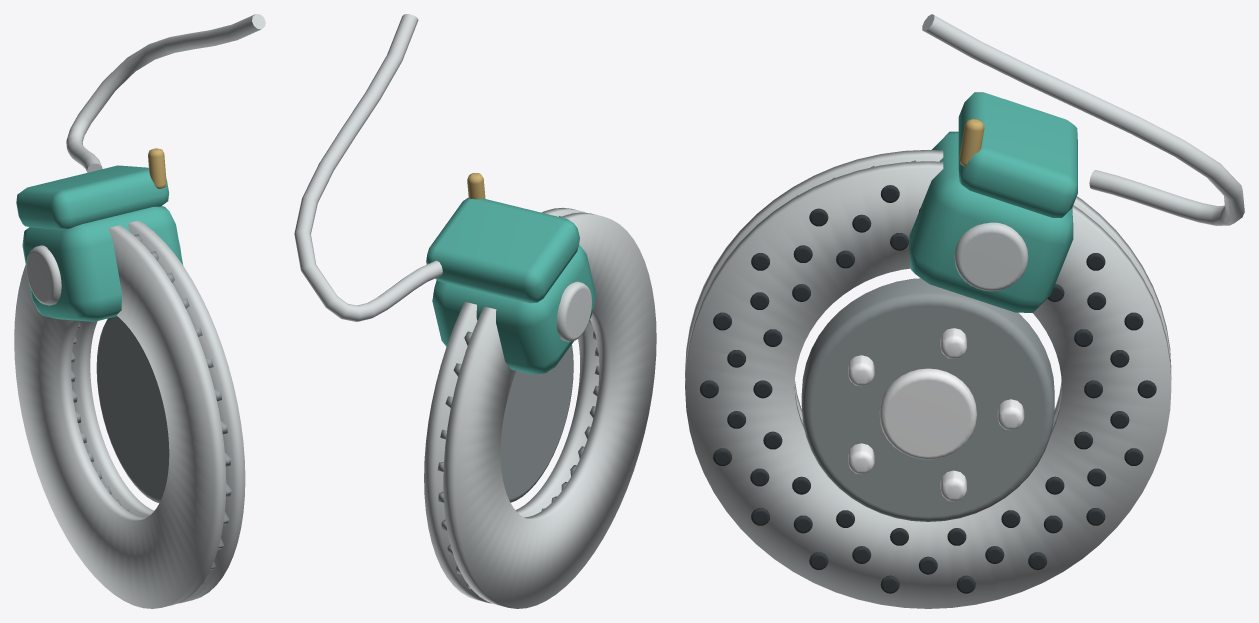
The model's file is brakes_sport.fbx.
3 renders of one model, left to right at view 1: azimuth 30°, elevation 25°; view 2: azimuth 150°, elevation 25°; view 3: azimuth 270°, elevation 25°, orthographic. The views are drawn at different scales.
Visible parts, largest first — view 1: brakes_sport; view 2: brakes_sport; view 3: brakes_sport.
Boxes of the visible parts, x1,y1,x2,y2 form: brakes_sport: (14,14,265,608); brakes_sport: (294,14,656,608); brakes_sport: (685,14,1244,608).
Bounding box in the file's own units: 16.78 × 43.48 × 33.38.
